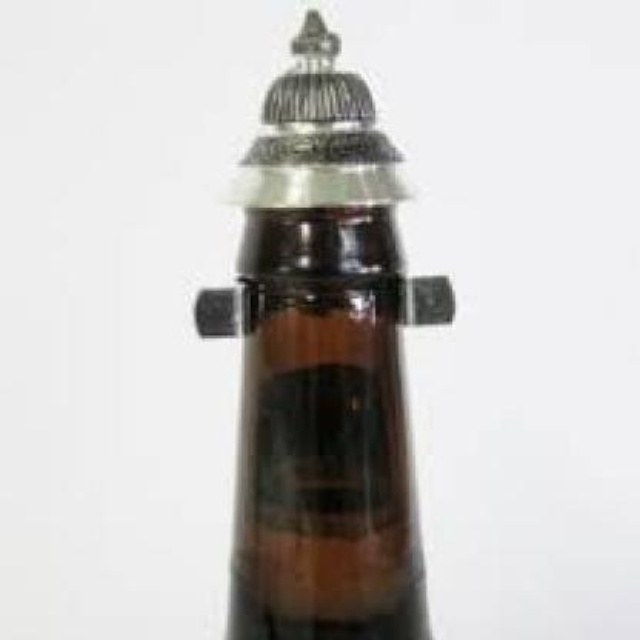trash: (195, 11, 426, 638)
